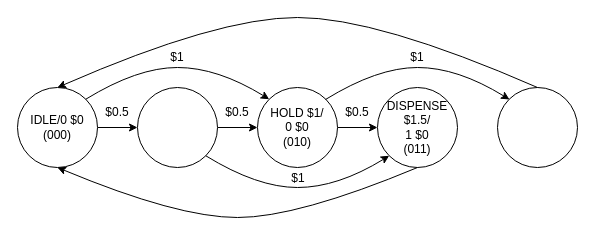
This 595x235 diagram has some shape labels left out. The shapes that lost their labels are listed below. From the top down, each one's centre as x and y in pixels, then its label:
At point 177,127: "HOLD $0.5/ 0 $0 (001)".
At point 537,127: "DISPENSE $2/ 1 $0.5 (100)".
